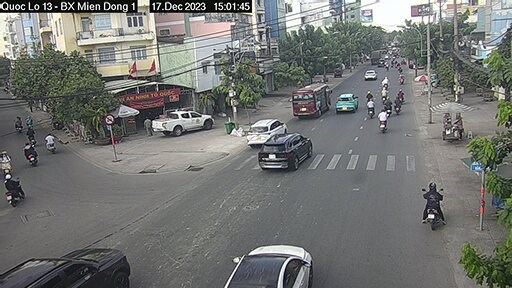car: (225, 233, 335, 281), (249, 128, 329, 169), (156, 99, 221, 129), (288, 75, 336, 112), (241, 117, 295, 142), (339, 87, 361, 122), (362, 67, 379, 82)
motorbike: (419, 173, 446, 235), (371, 104, 387, 132)
